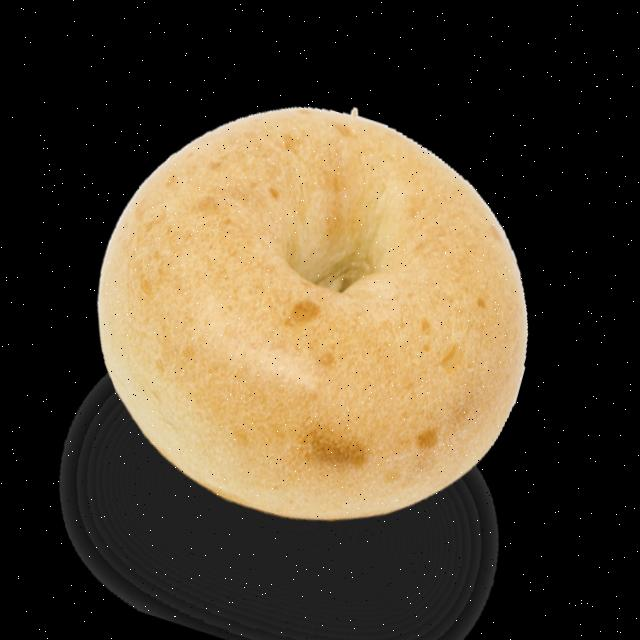Bagel: (97, 104, 525, 516)
